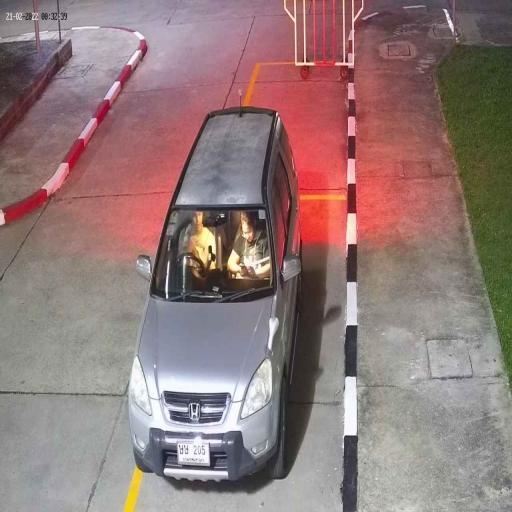car: (124, 102, 304, 490)
